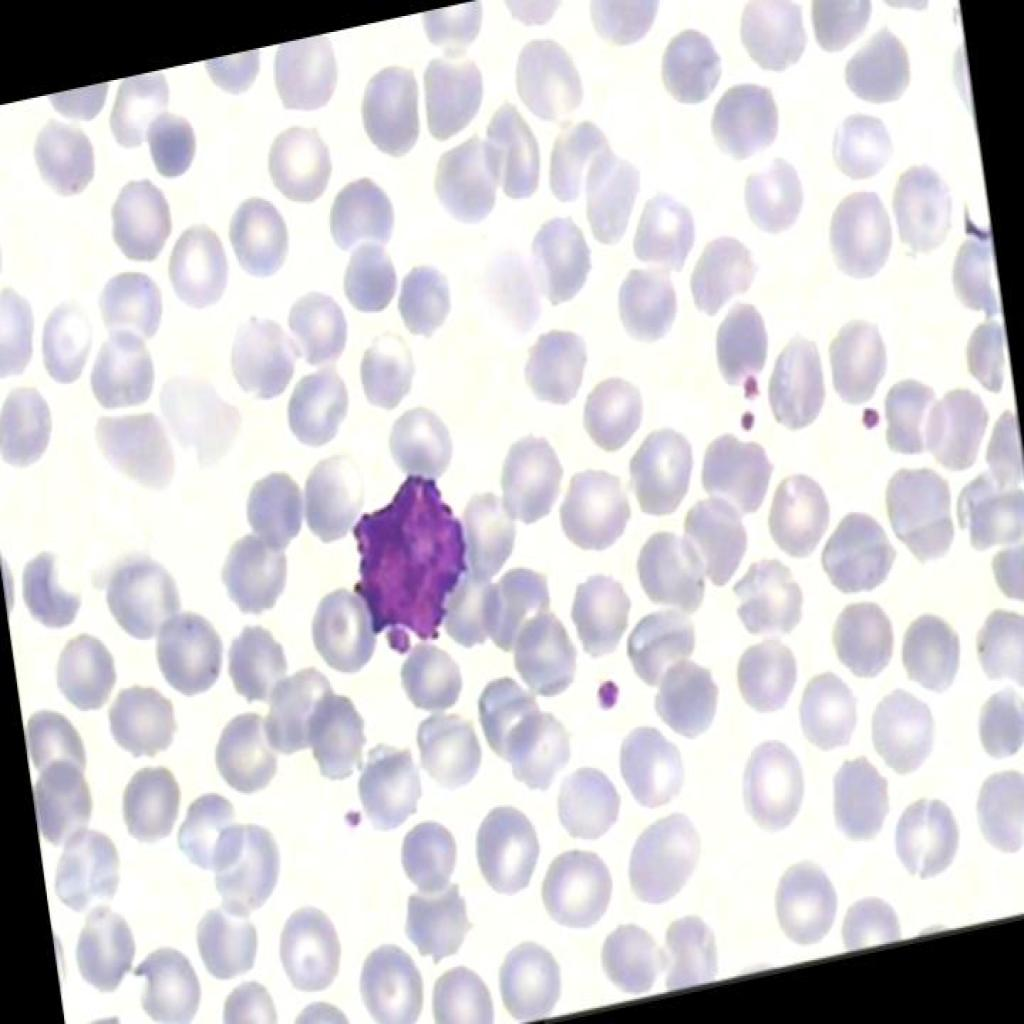Basofil: (321, 452, 485, 670)
Platelet: (590, 665, 633, 725), (326, 782, 367, 843), (859, 396, 889, 446), (736, 356, 766, 402), (729, 400, 761, 441)
